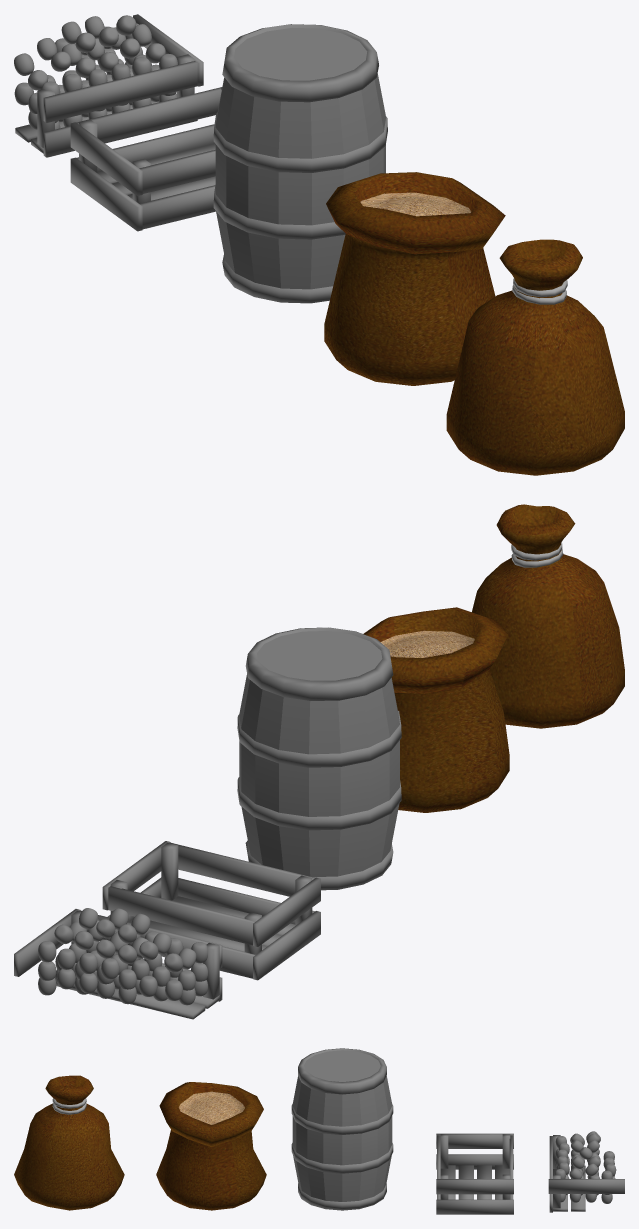
3 views of the same model, one above another, from view 1: azimuth 30°, elevation 25°; view 2: azimuth 150°, elevation 25°; view 3: azimuth 270°, elevation 25° (orthographic). The views are drawn at different scales.
Bounding box in the file's own units: 0.6471 × 0.8228 × 3.58.
